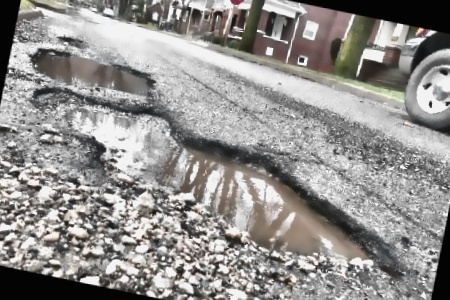pothole: (4, 80, 422, 288), (22, 41, 160, 102), (54, 30, 88, 49)
